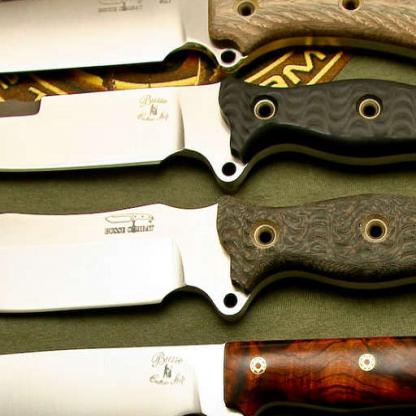knife: (0, 198, 415, 322), (0, 80, 415, 197), (0, 0, 415, 78), (0, 340, 415, 415)
